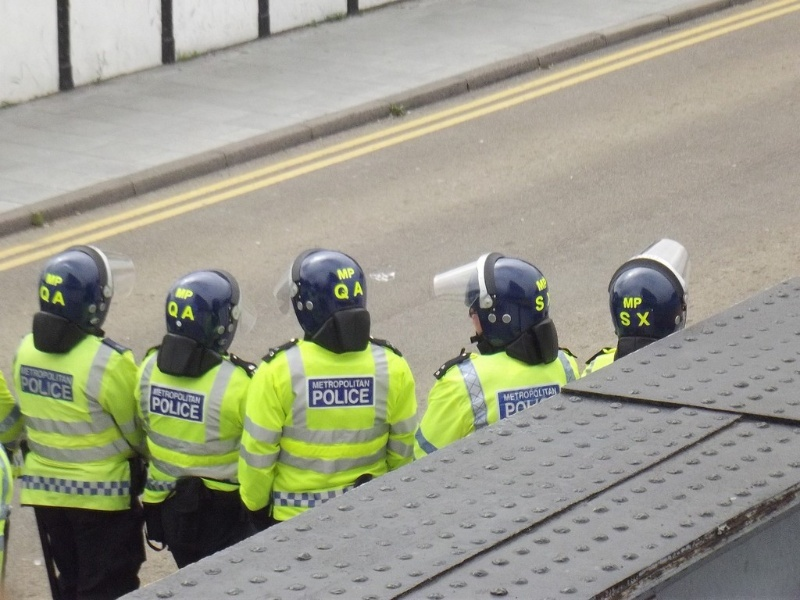Baret: (471, 255, 548, 359), (288, 249, 369, 344), (38, 244, 115, 332), (163, 268, 237, 355), (610, 263, 690, 342)
